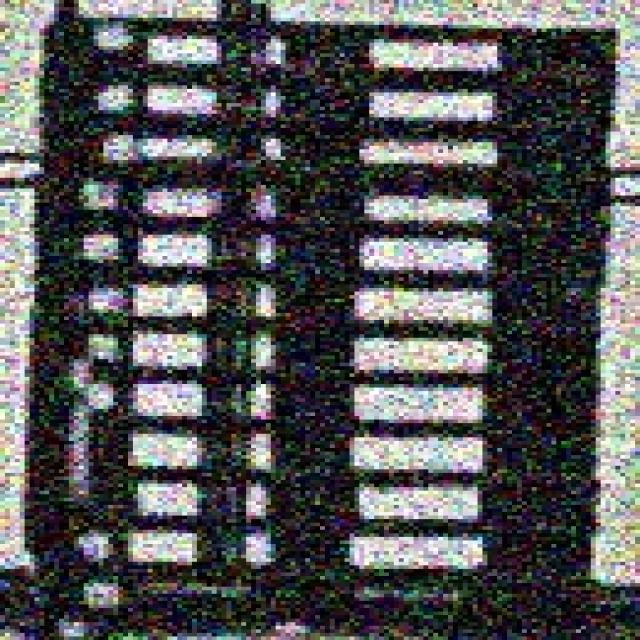igps: (35, 7, 624, 77), (17, 474, 608, 530), (18, 170, 622, 224), (19, 277, 615, 331), (16, 524, 610, 578), (17, 376, 608, 430), (15, 426, 612, 479), (21, 225, 616, 278), (19, 569, 608, 620), (22, 327, 610, 378), (30, 72, 626, 122), (33, 125, 620, 173), (24, 611, 469, 640)
